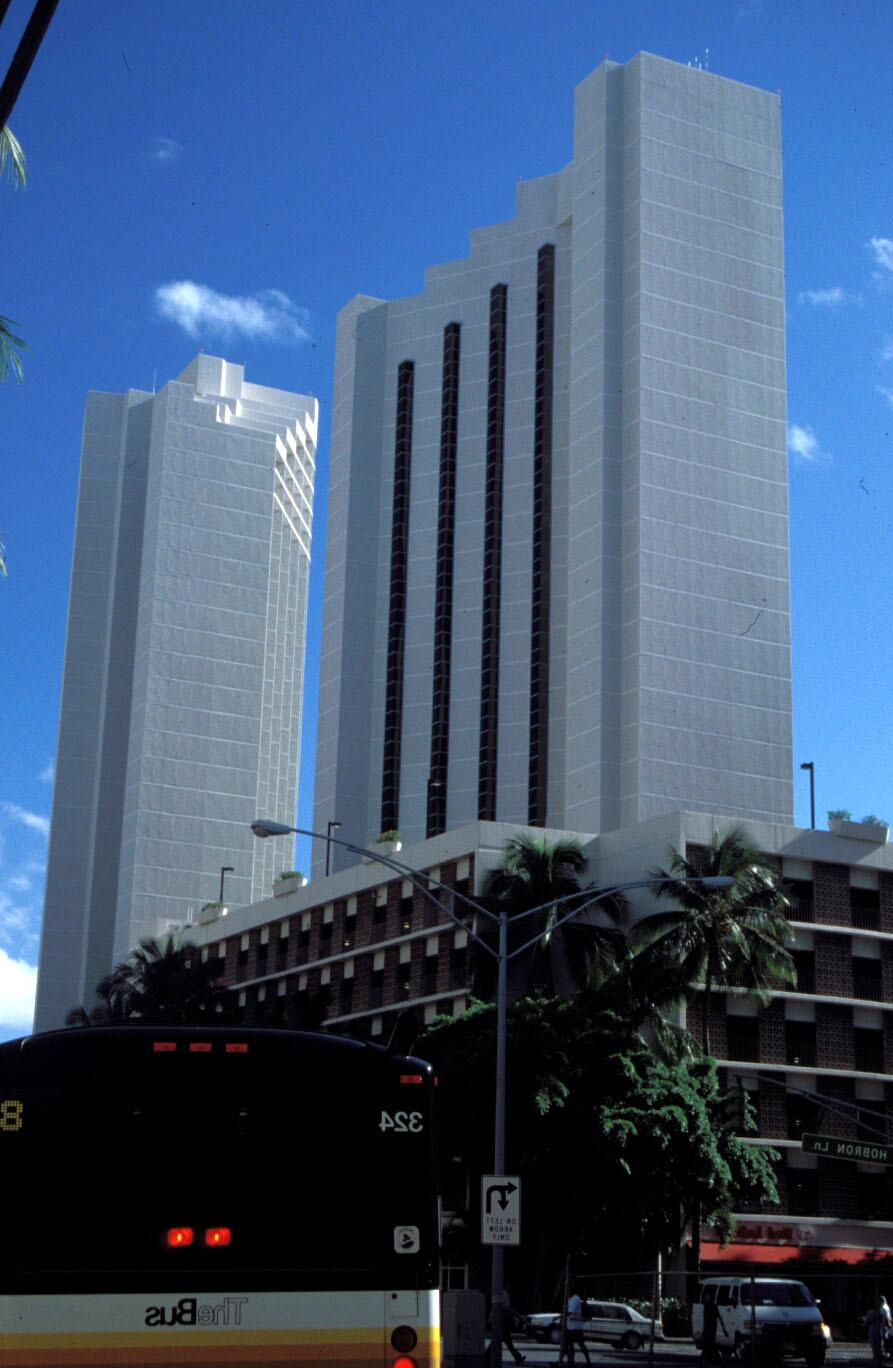building: (312, 47, 809, 880), (124, 820, 893, 1220), (39, 352, 324, 1032)
